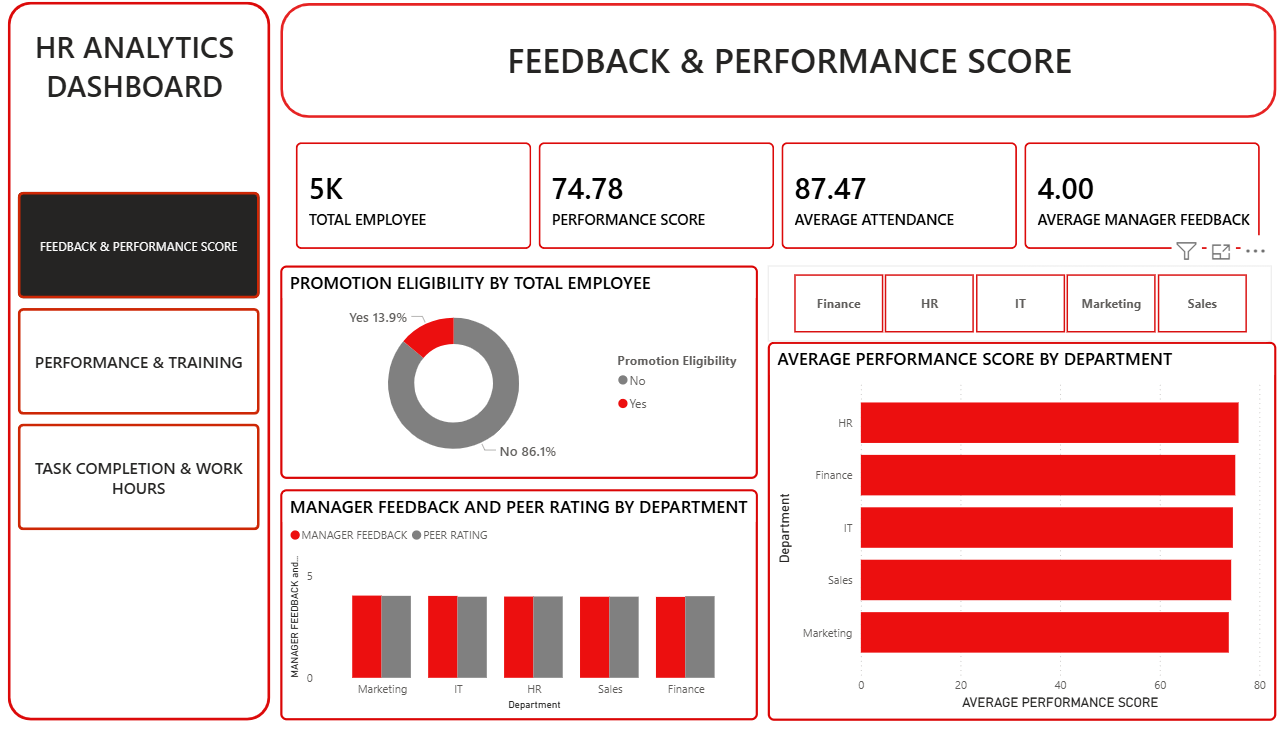

The page's visual inventory and layout, read from the dashboard file:
{"tool":"powerbi","page":{"name":"FEEDBACK & PERFORMANCE SCORE","canvas":[1400,800],"ordinal":0},"visuals":[{"type":"shape","box":[9.5,4.1,285.3,781.3],"z":0},{"type":"cardVisual","fields":{"Data":["Employee_Performance_Dataset.TOTAL EMPLOYEE","Employee_Performance_Dataset.AVERAGE PERFORMANCE SCORE","Employee_Performance_Dataset.ATTENDANCE","Employee_Performance_Dataset.AVERAGE MANAGER FEEDBACK"]},"box":[305.7,139.9,1082.9,150.8],"z":1000},{"type":"barChart","title":"AVERAGE PERFORMANCE SCORE BY DEPARTMENT","fields":{"Category":["Employee_Performance_Dataset.Department"],"Y":["Employee_Performance_Dataset.AVERAGE PERFORMANCE SCORE"]},"box":[835.6,373.6,553,411.7],"z":2000},{"type":"donutChart","title":"PROMOTION ELIGIBILITY BY TOTAL EMPLOYEE","fields":{"Category":["Employee_Performance_Dataset.Promotion Eligibility"],"Y":["Employee_Performance_Dataset.TOTAL EMPLOYEE"]},"box":[305.7,290.8,519,232.3],"z":3000},{"type":"lineClusteredColumnComboChart","title":"MANAGER FEEDBACK AND PEER RATING BY DEPARTMENT","fields":{"Category":["Employee_Performance_Dataset.Department"],"Y":["Employee_Performance_Dataset.AVERAGE MANAGER FEEDBACK","Employee_Performance_Dataset.AVERAGE PEER RATING"]},"box":[305.7,534,519,251.4],"z":4000},{"type":"textbox","box":[20.4,25.8,254.1,114.1],"z":5000},{"type":"slicer","fields":{"Values":["Employee_Performance_Dataset.Department"]},"box":[835.6,290.8,547.6,82.9],"z":6000},{"type":"pageNavigator","box":[20.4,210.6,263.6,369.6],"z":7000},{"type":"shape","box":[305.7,5.4,1082.9,125],"z":8000},{"type":"textbox","box":[513.6,36.7,691.6,81.5],"z":9000}]}

Visuals, with their boxes in screenshot pixels (x1, y1, x2, y2), scaled from the page's 1400x800 canvas onto the 1285x733 screenshot:
shape: (x1=9, y1=4, x2=271, y2=720)
cardVisual - Employee_Performance_Dataset.TOTAL EMPLOYEE x Employee_Performance_Dataset.AVERAGE PERFORMANCE SCORE: (x1=281, y1=128, x2=1275, y2=266)
"AVERAGE PERFORMANCE SCORE BY DEPARTMENT" barChart: (x1=767, y1=342, x2=1275, y2=720)
"PROMOTION ELIGIBILITY BY TOTAL EMPLOYEE" donutChart: (x1=281, y1=266, x2=757, y2=479)
"MANAGER FEEDBACK AND PEER RATING BY DEPARTMENT" lineClusteredColumnComboChart: (x1=281, y1=489, x2=757, y2=720)
textbox: (x1=19, y1=24, x2=252, y2=128)
slicer - Employee_Performance_Dataset.Department: (x1=767, y1=266, x2=1270, y2=342)
pageNavigator: (x1=19, y1=193, x2=261, y2=532)
shape: (x1=281, y1=5, x2=1275, y2=119)
textbox: (x1=471, y1=34, x2=1106, y2=108)
